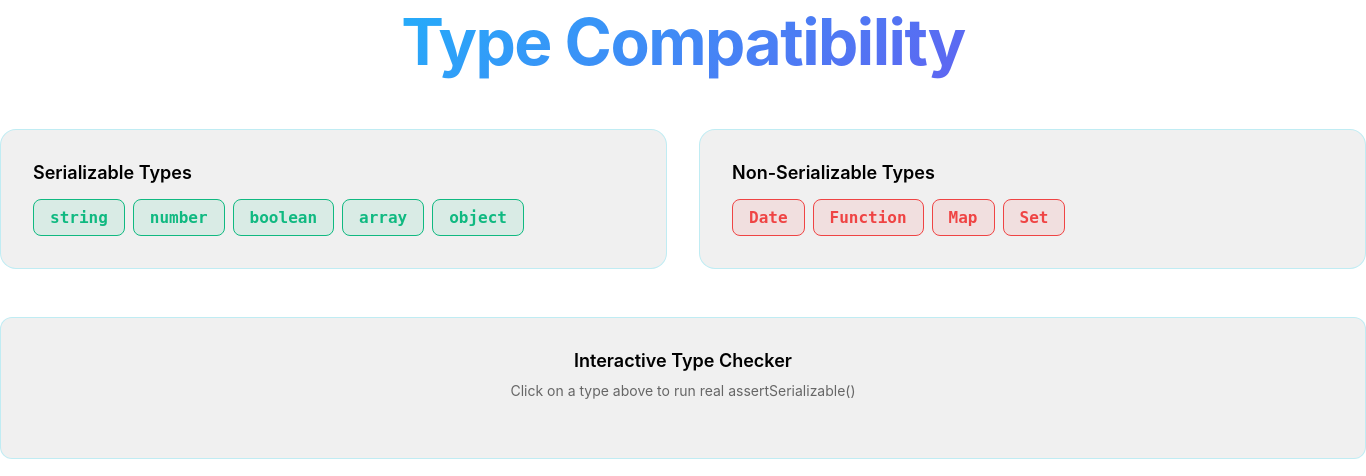
Test case: TypeDemo › type card hover behavior › should display details on hover
The width and height of the screenshot is (1366, 476).
Hover over the button with test id "type-card-string": (79, 218) [33, 199, 125, 236]
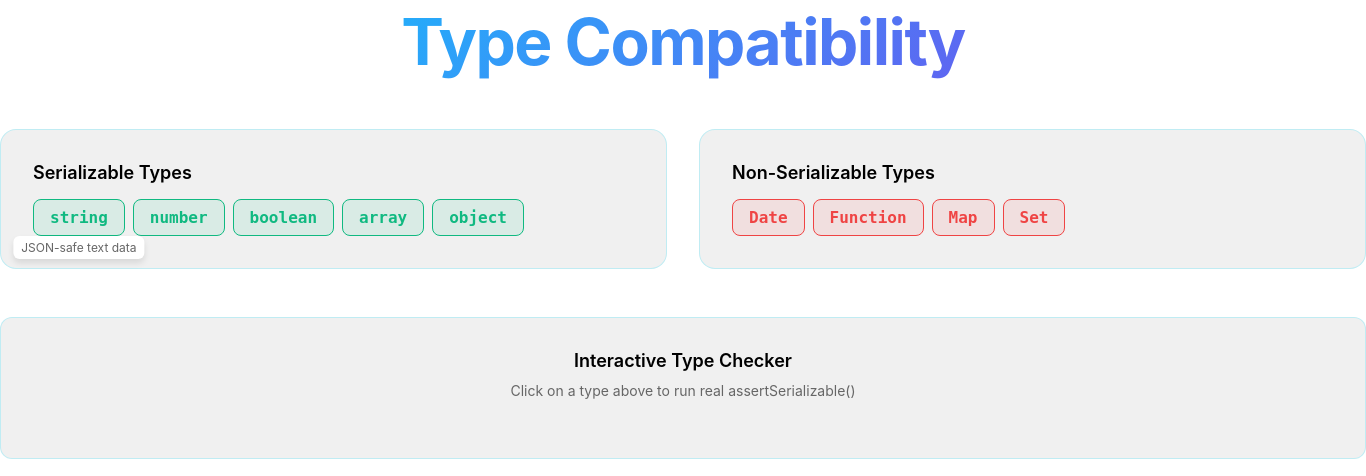
Check: the text "JSON-safe text data" is shown, box [13, 236, 145, 259]
